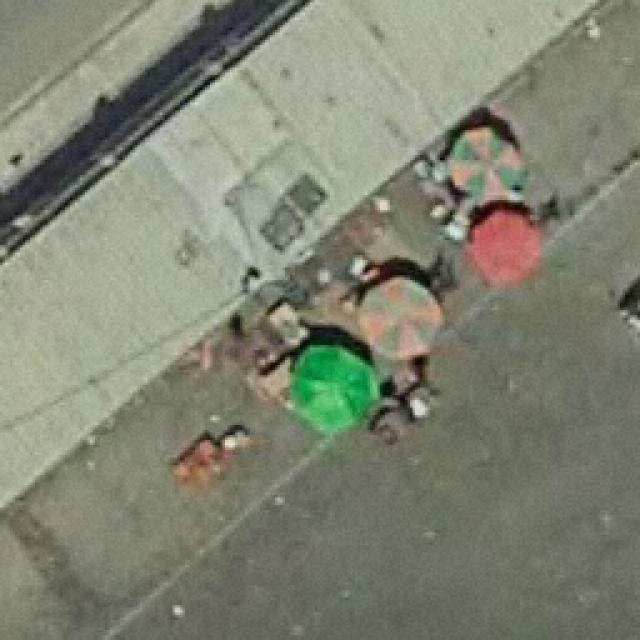vendedor_ambulante: (352, 264, 450, 364), (287, 333, 384, 433), (444, 120, 533, 204), (465, 205, 549, 292)
